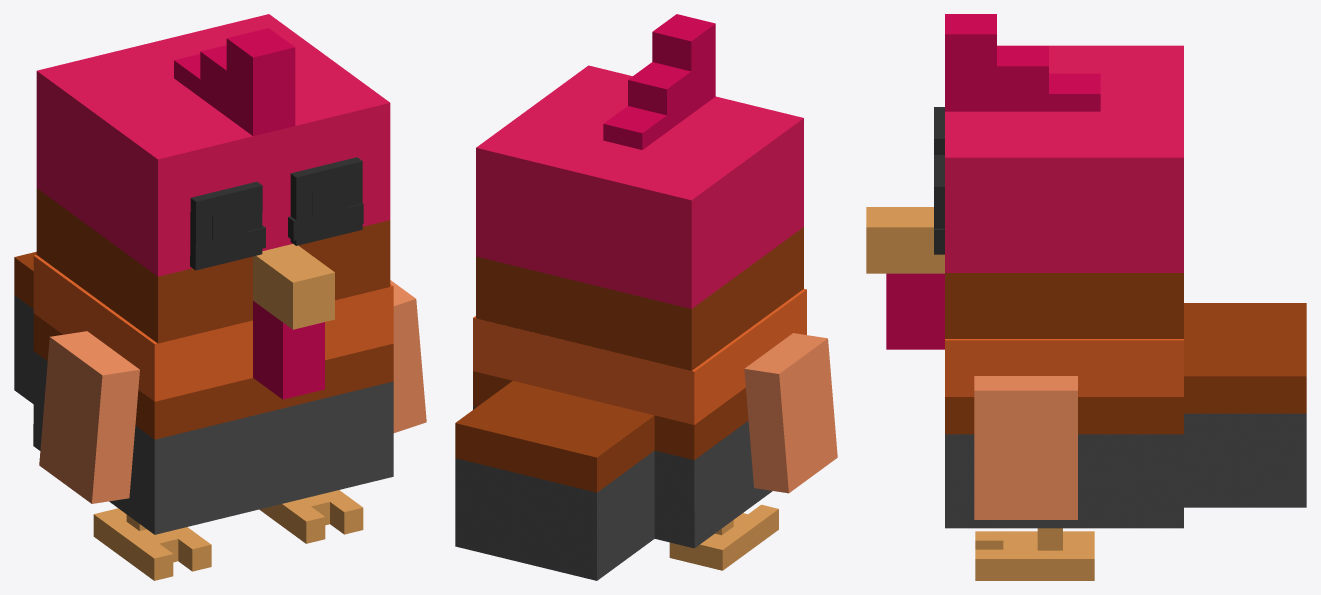
3 renders of one model, left to right at view 1: azimuth 30°, elevation 25°; view 2: azimuth 150°, elevation 25°; view 3: azimuth 270°, elevation 25°, orthographic. The views are drawn at different scales.
Parts seen in each view (by area): view 1: Ch_14_Head, Ch_14, Ch_14_Wing_L, Ch_14_Leg_L, Ch_14_Wing_R, Ch_14_Eye_03_R, Ch_14_Eye_03_L, Ch_14_Leg_R, Ch_14_Eye_01, Ch_14_Eye_02; view 2: Ch_14_Head, Ch_14, Ch_14_Wing_L, Ch_14_Leg_L; view 3: Ch_14_Head, Ch_14, Ch_14_Wing_R, Ch_14_Leg_R, Ch_14_Eye_03_R.
Part boxes in pixels (<box>): Ch_14_Head: <box>36,14,390,399</box>; Ch_14: <box>14,251,393,534</box>; Ch_14_Wing_L: <box>39,331,139,503</box>; Ch_14_Leg_L: <box>93,508,211,580</box>; Ch_14_Wing_R: <box>390,280,426,432</box>; Ch_14_Eye_03_R: <box>290,157,362,245</box>; Ch_14_Eye_03_L: <box>190,181,262,270</box>; Ch_14_Leg_R: <box>259,490,363,543</box>; Ch_14_Eye_01: <box>212,177,346,254</box>; Ch_14_Eye_02: <box>190,203,363,260</box>; Ch_14_Head: <box>476,14,803,370</box>; Ch_14: <box>455,289,806,580</box>; Ch_14_Wing_L: <box>744,333,837,493</box>; Ch_14_Leg_L: <box>669,504,778,570</box>; Ch_14_Head: <box>866,14,1183,349</box>; Ch_14: <box>945,303,1306,528</box>; Ch_14_Wing_R: <box>974,376,1077,519</box>; Ch_14_Leg_R: <box>975,528,1094,580</box>; Ch_14_Eye_03_R: <box>934,155,944,254</box>.
Size of the model in its own units: 8.4 by 12.32 by 9.7.
